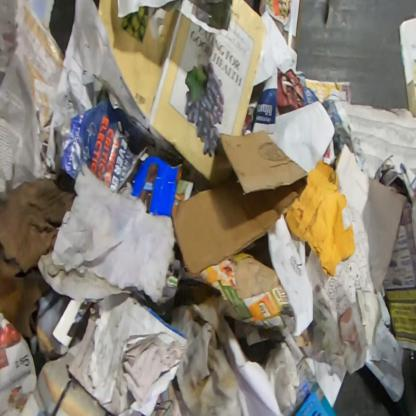cardboard: (97, 0, 267, 186), (170, 129, 310, 278), (0, 175, 78, 339), (169, 251, 296, 339), (283, 157, 356, 279), (0, 312, 49, 415), (338, 288, 383, 376)
